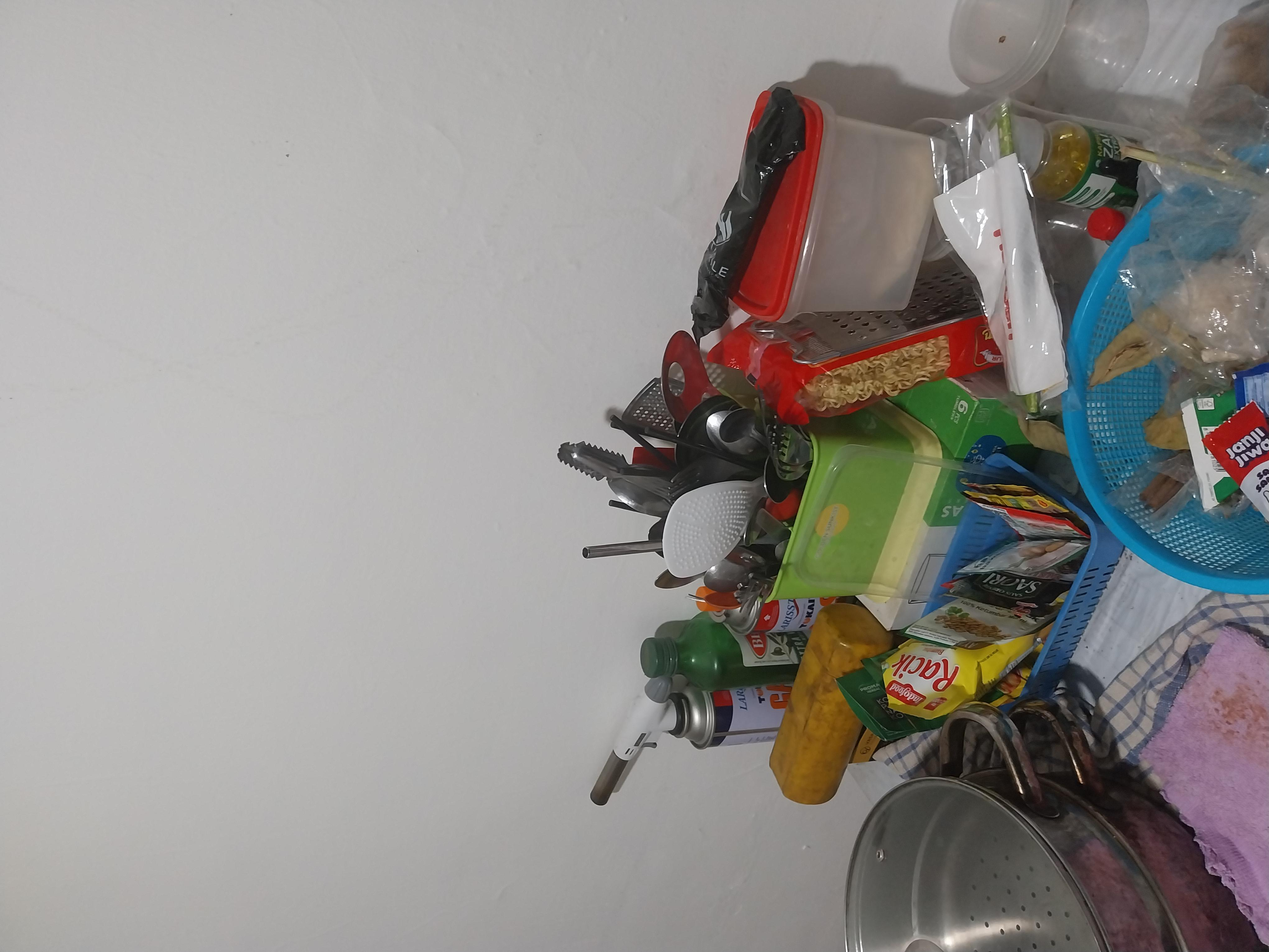bottle: (327, 477, 466, 606), (977, 747, 1124, 863), (938, 811, 1010, 850)
spoon: (663, 506, 758, 554), (466, 524, 551, 576), (650, 530, 734, 577), (571, 451, 644, 505), (591, 562, 664, 604), (466, 524, 538, 564), (522, 555, 592, 595), (454, 549, 516, 586), (541, 562, 596, 595), (568, 572, 619, 606), (664, 526, 728, 553), (534, 555, 576, 588), (507, 545, 545, 579), (576, 455, 605, 499), (484, 490, 511, 529), (456, 514, 481, 556), (646, 504, 682, 527), (540, 558, 562, 590), (547, 485, 581, 499), (521, 579, 554, 592)
towel: (190, 792, 510, 952), (12, 857, 435, 952), (225, 654, 295, 709), (230, 764, 317, 804), (242, 722, 297, 752), (185, 873, 201, 885), (43, 932, 56, 939), (28, 943, 34, 945)
